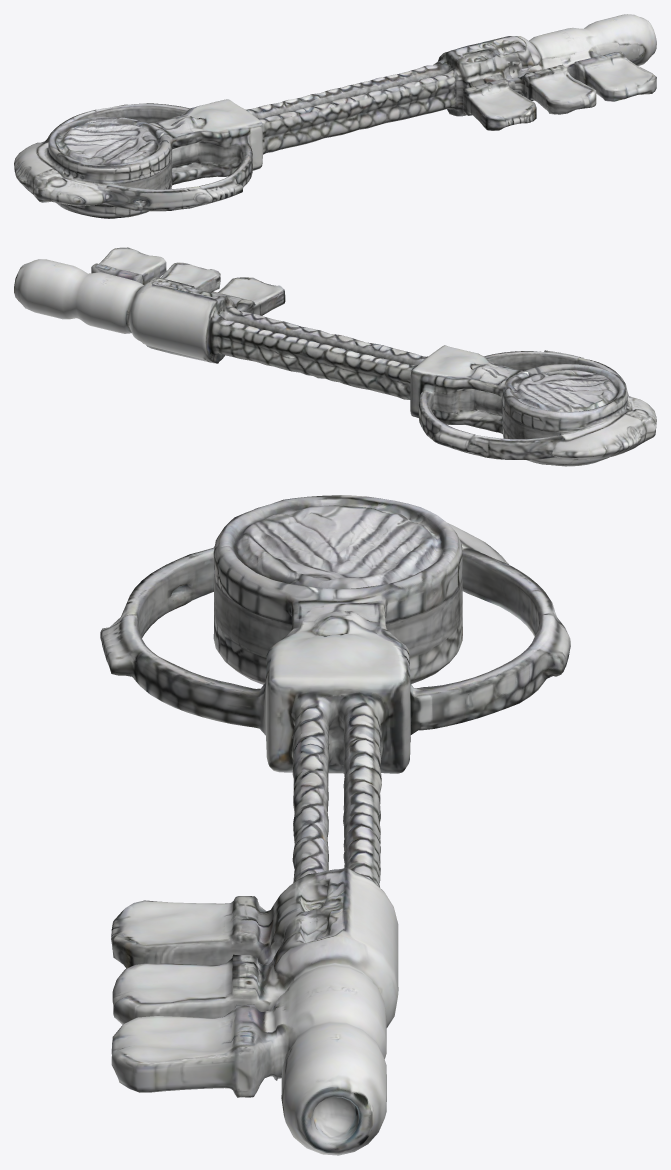
Rendered from key.glb.
The picture shows the model from 3 angles, top to bottom: view 1: azimuth 30°, elevation 25°; view 2: azimuth 150°, elevation 25°; view 3: azimuth 270°, elevation 25°; orthographic projection. The views are drawn at different scales.
Size of the model in its own units: 2 by 0.1984 by 0.6571.
1 material, 1 textured.
